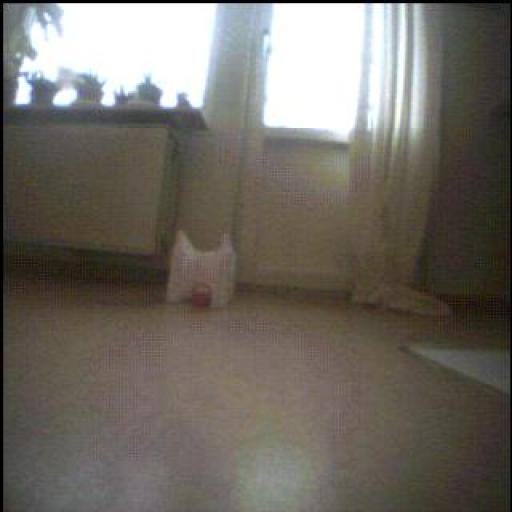Basket: (192, 284, 213, 308)
